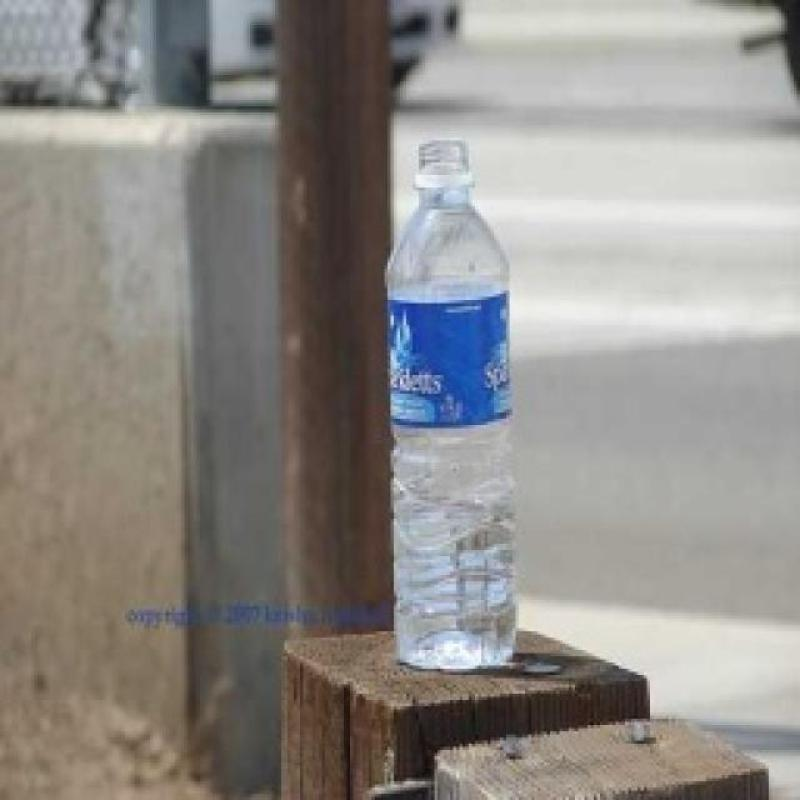botella: (380, 140, 520, 670)
